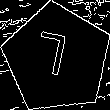L_S: (37, 31, 77, 87)
